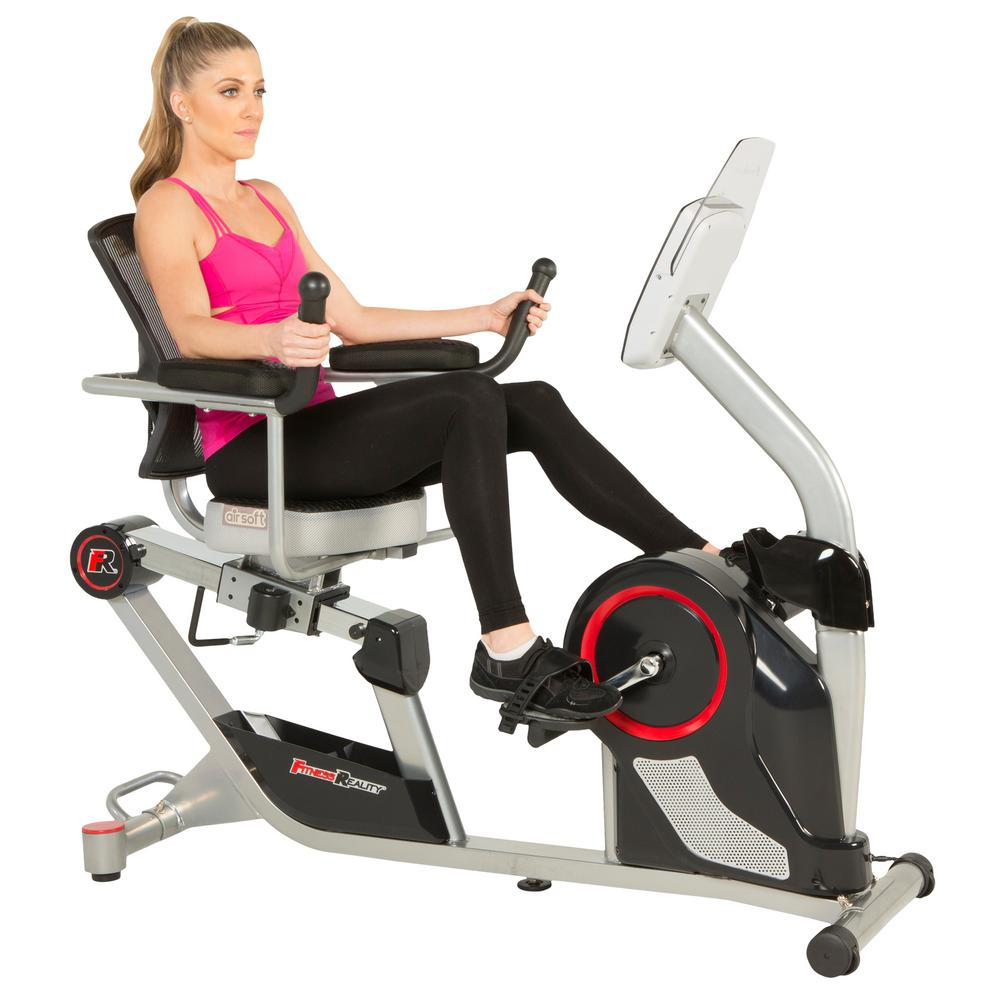gym_bike: (43, 134, 947, 982)
